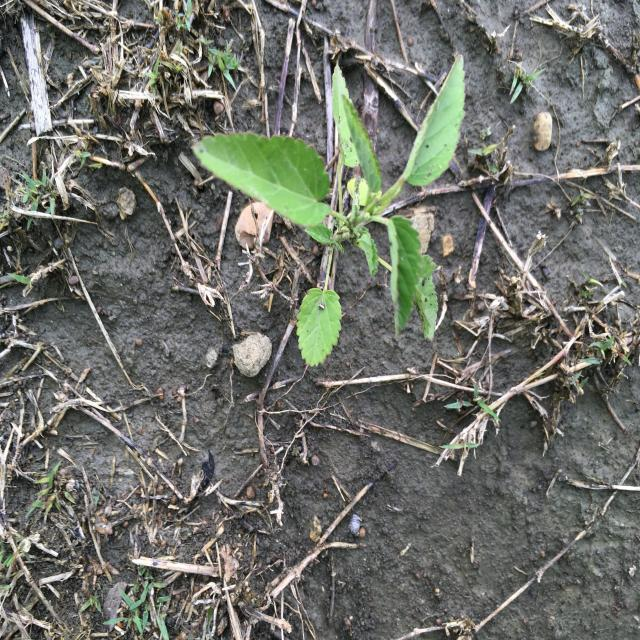PricklySida: (188, 52, 470, 368)
